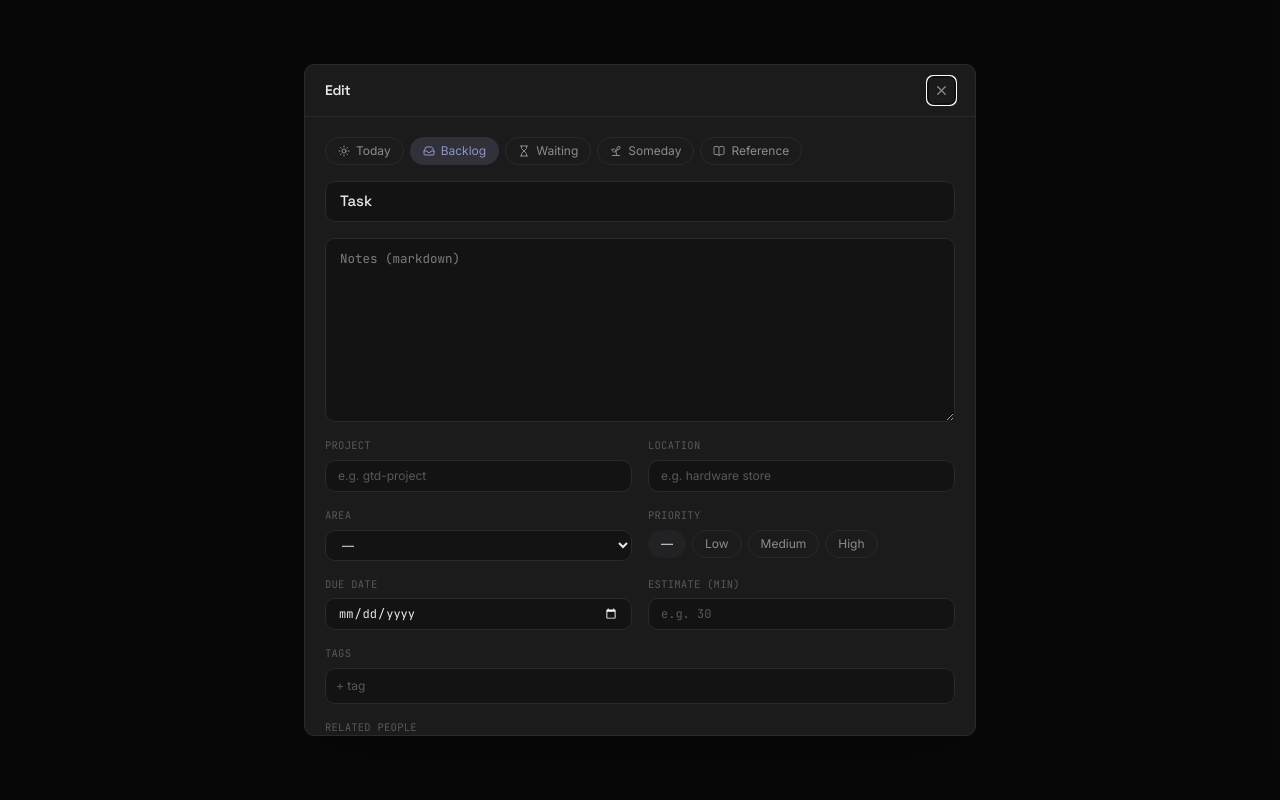
Test case: priority segmented control › offers Low/Medium/High and persists the choice
Expected: the field with placeholder "Title" is shown, [325,181,955,222]
Click the button "High" at (851, 544), box [825,530,878,558]
(page scrolled)
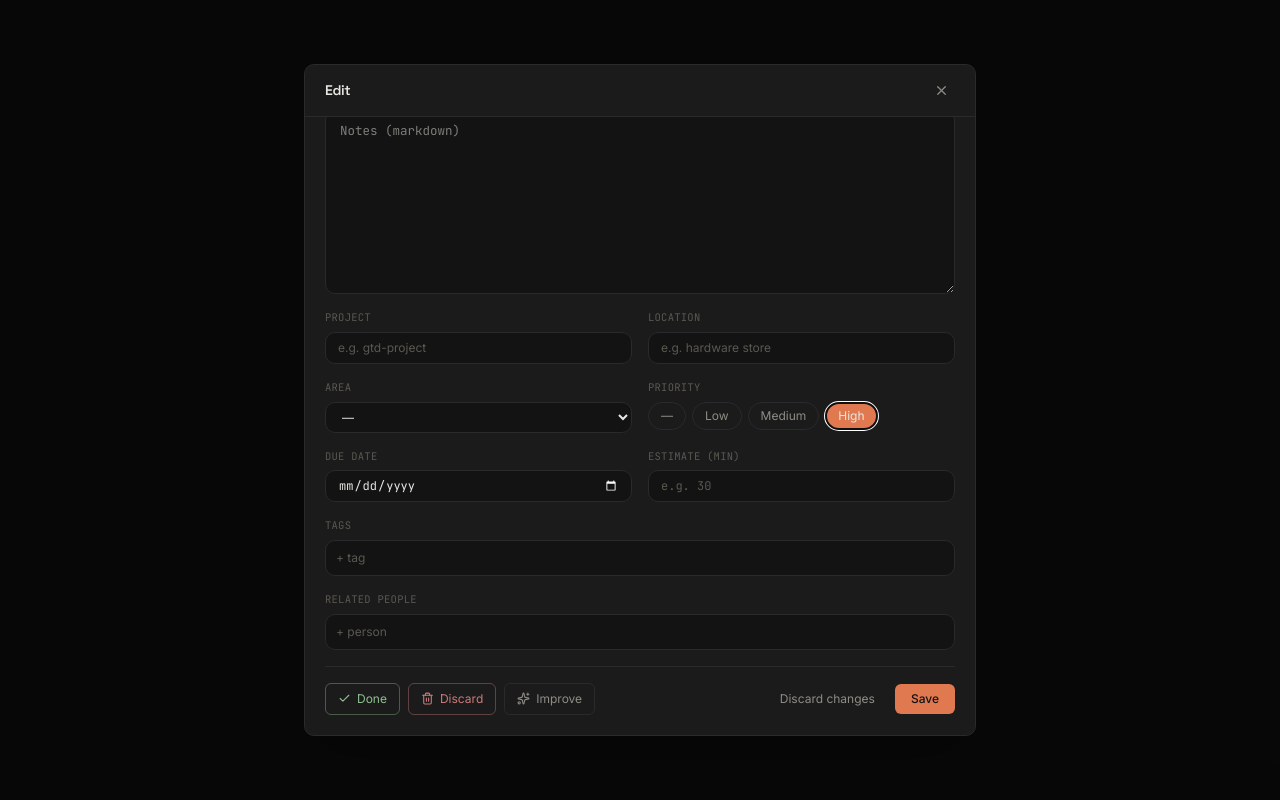
Result: the button "Discard changes" is shown at [768,684,887,714]
Click the button "Save" at (925, 699), box [895,684,955,714]
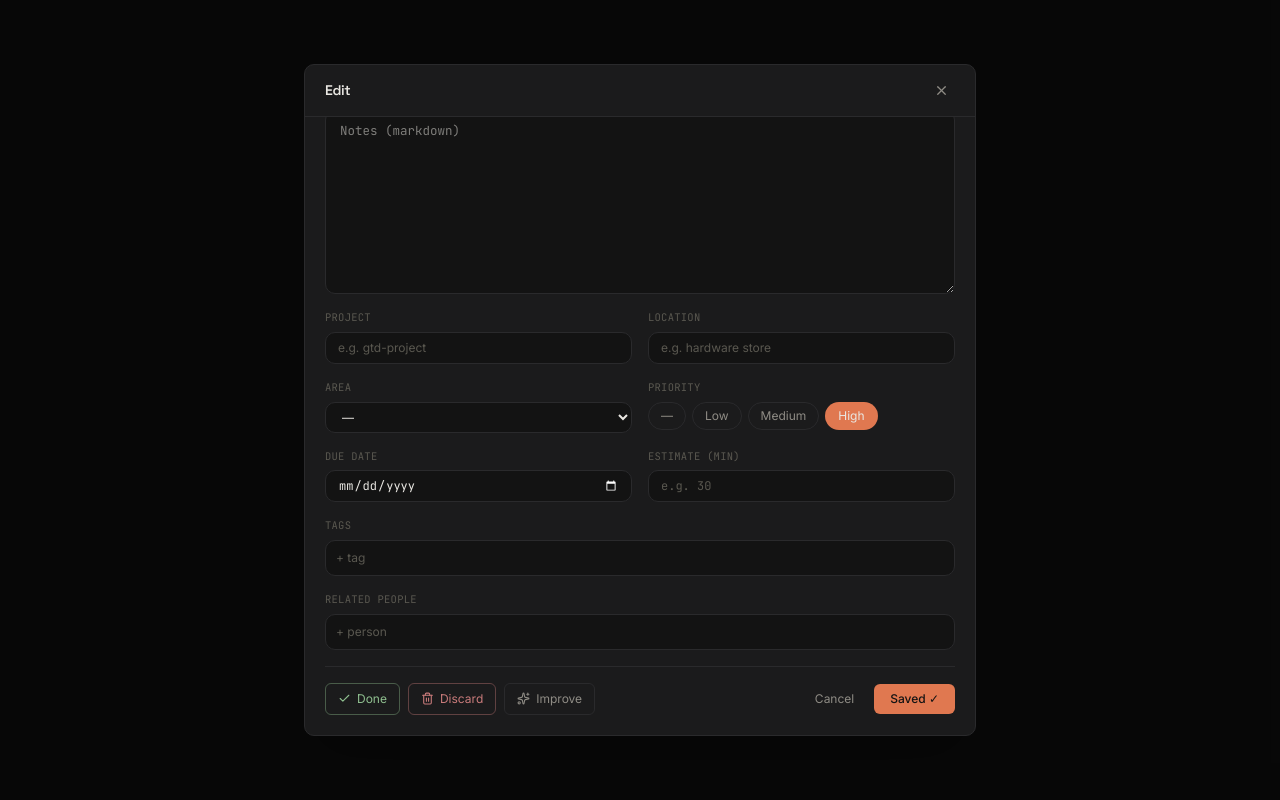
Result: the button "Saved ✓" is shown at [874,684,955,714]
